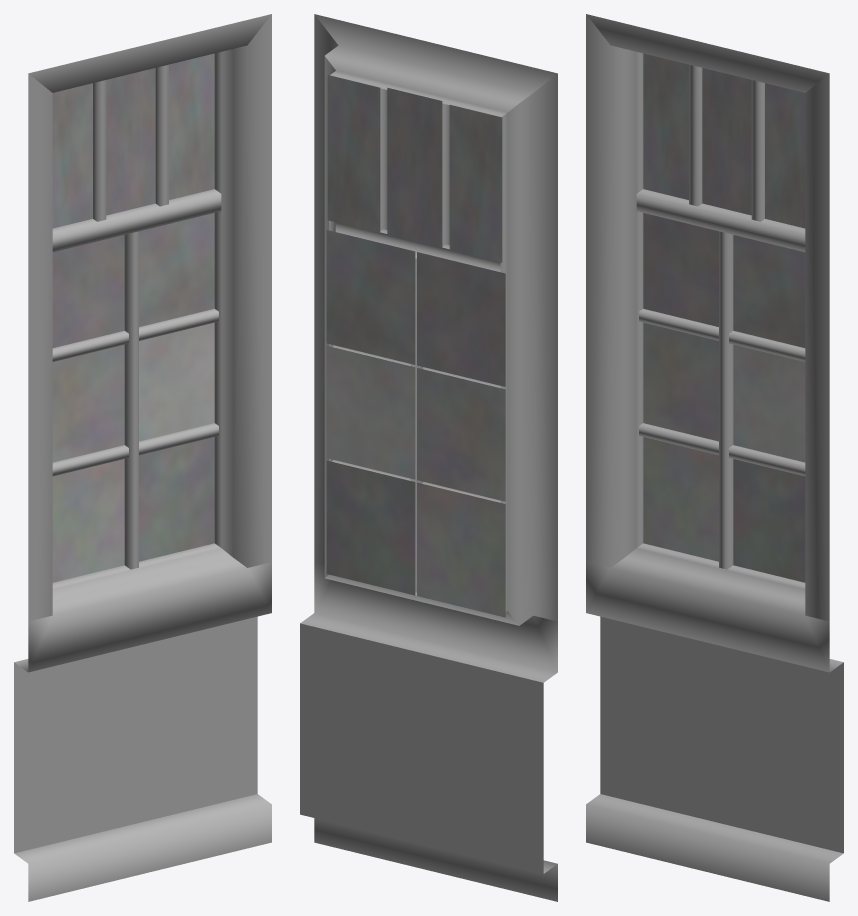
File: Store_Wall_03.fbx
3 renders of one model, left to right at view 1: azimuth 30°, elevation 25°; view 2: azimuth 150°, elevation 25°; view 3: azimuth 330°, elevation 25°, orthographic.
Visible parts, largest first — view 1: Store_Wall_03; view 2: Store_Wall_03; view 3: Store_Wall_03.
Part boxes in pixels (x1=…): Store_Wall_03: x1=14, y1=14, x2=271, y2=901; Store_Wall_03: x1=300, y1=14, x2=557, y2=901; Store_Wall_03: x1=586, y1=14, x2=843, y2=901.
Size of the model in its own units: 1 by 3.25 by 0.15.
